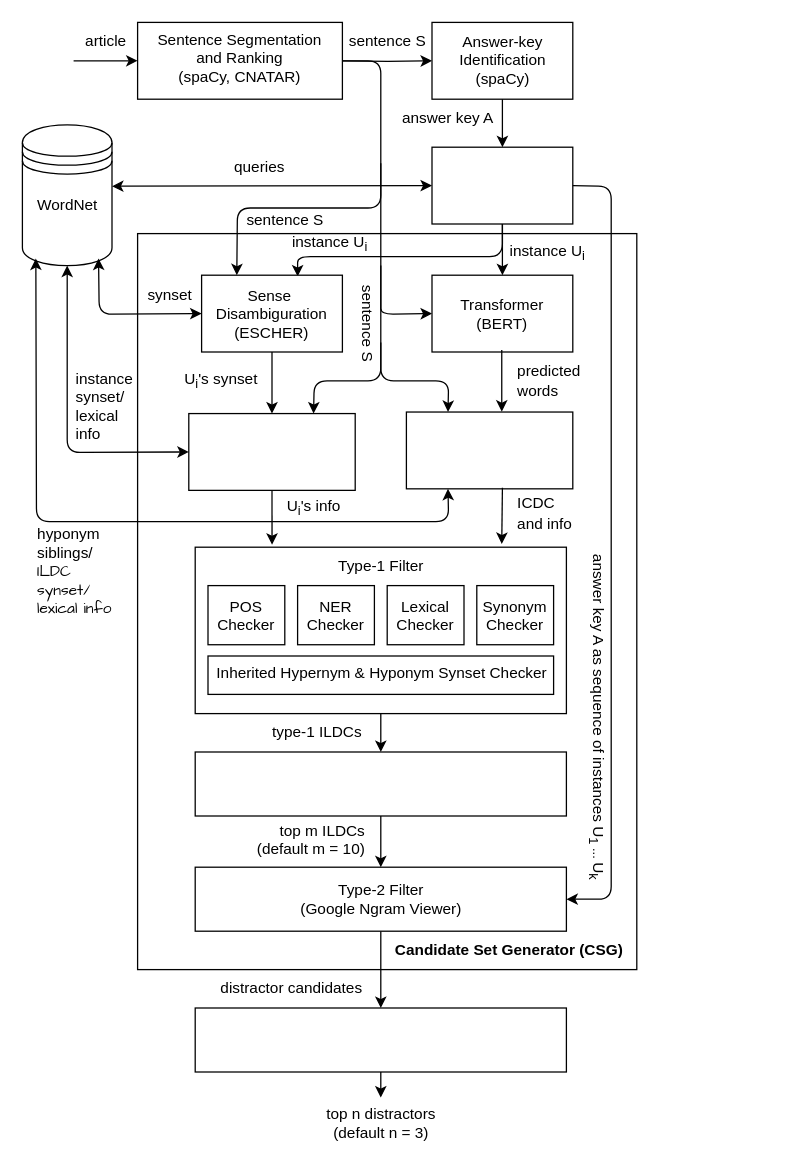
This 797x1171 diagram has some shape labels left out. The shapes that lost their labels are listed below. From the top down, each one's centre as x and y in pixels, then its label:
At (502,185): "Answer-key Segmentation (AKS)".
At (271,451): "Instance Information Extraction (IIE) (spaCy, lexical label)".
At (489,450): "ILDC Information Extraction (ILDCIE) (spaCy, synset, lexical)".
At (380,783): "Instance-level Distractor Candidate Ranker R = E + W + P (ILDCR)".
At (380,1039): "Distractor Selector (DS)".
